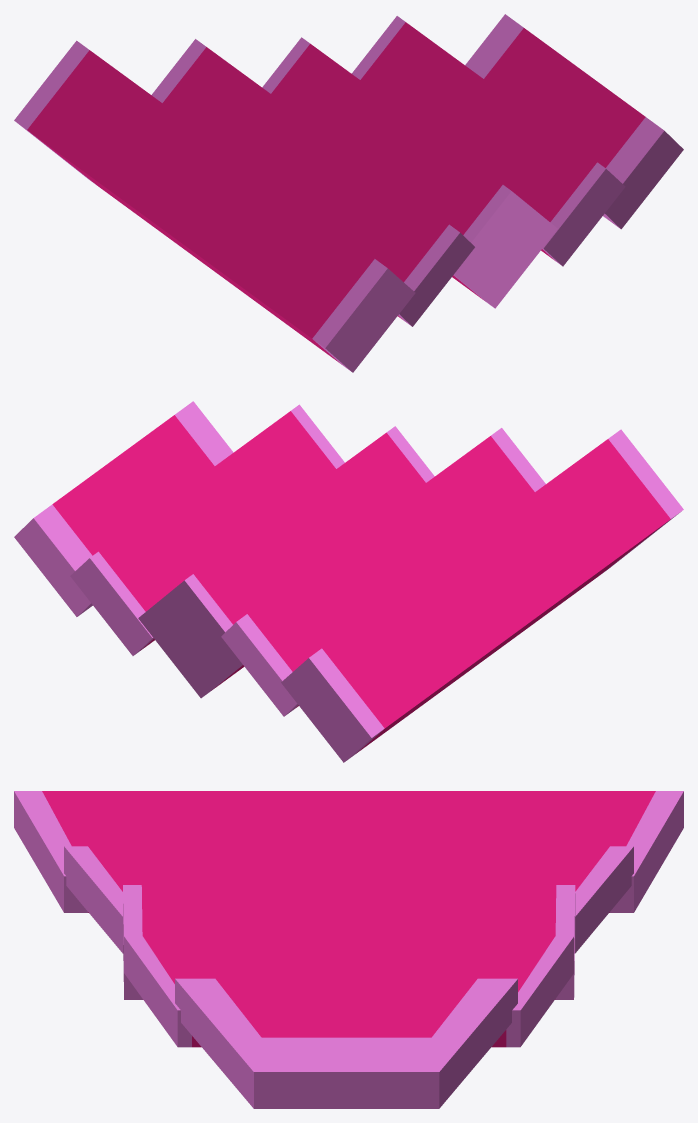
File: GravityMeat_Cutted.fbx
3 renders of one model, top to bottom at view 1: azimuth 30°, elevation 25°; view 2: azimuth 150°, elevation 25°; view 3: azimuth 270°, elevation 25°, orthographic. The views are drawn at different scales.
Parts seen in each view (by area): view 1: GravityMeat_Cutted; view 2: GravityMeat_Cutted; view 3: GravityMeat_Cutted.
Boxes of the visible parts, left/top/right/bottom form: GravityMeat_Cutted: left=14, top=14, right=683, bottom=372; GravityMeat_Cutted: left=14, top=401, right=683, bottom=762; GravityMeat_Cutted: left=14, top=791, right=683, bottom=1108.
Bounding box in the file's own units: 30.17 × 34.59 × 7.79.
